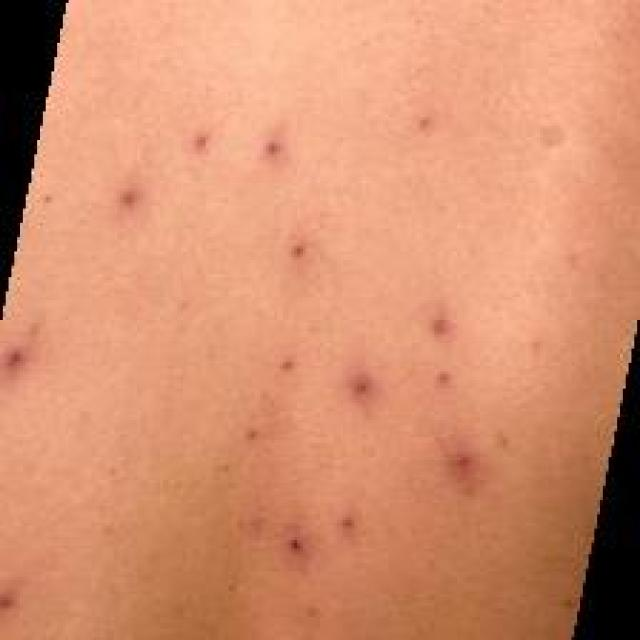others: (74, 0, 546, 640)
